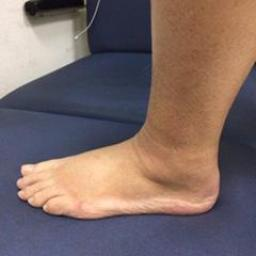Lateral View -Left Foot-: (12, 96, 234, 224)
